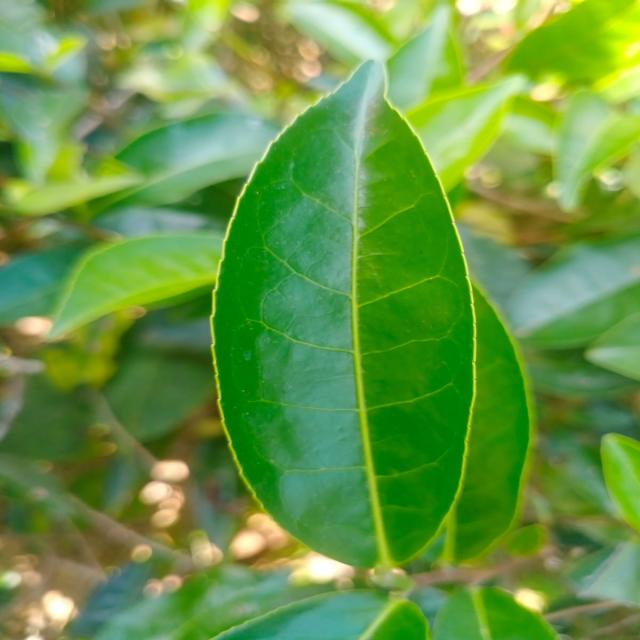Category D(7+ days, Not for Tea): (172, 32, 521, 585)
